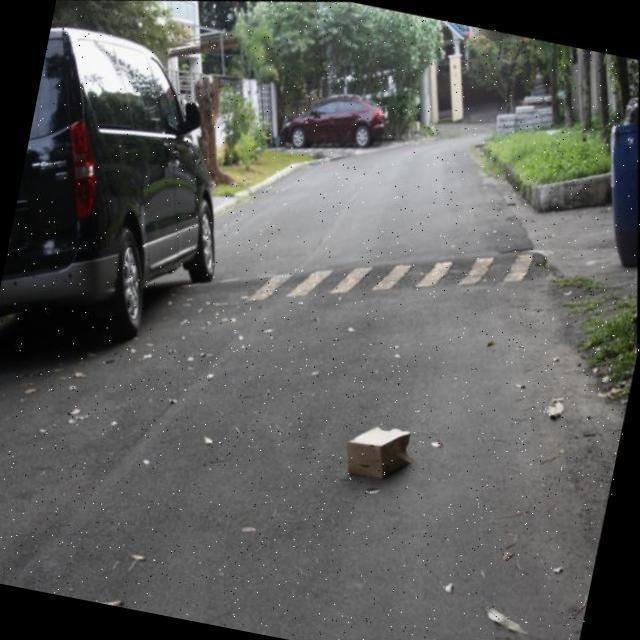Paper_Bag: (338, 414, 422, 491)
